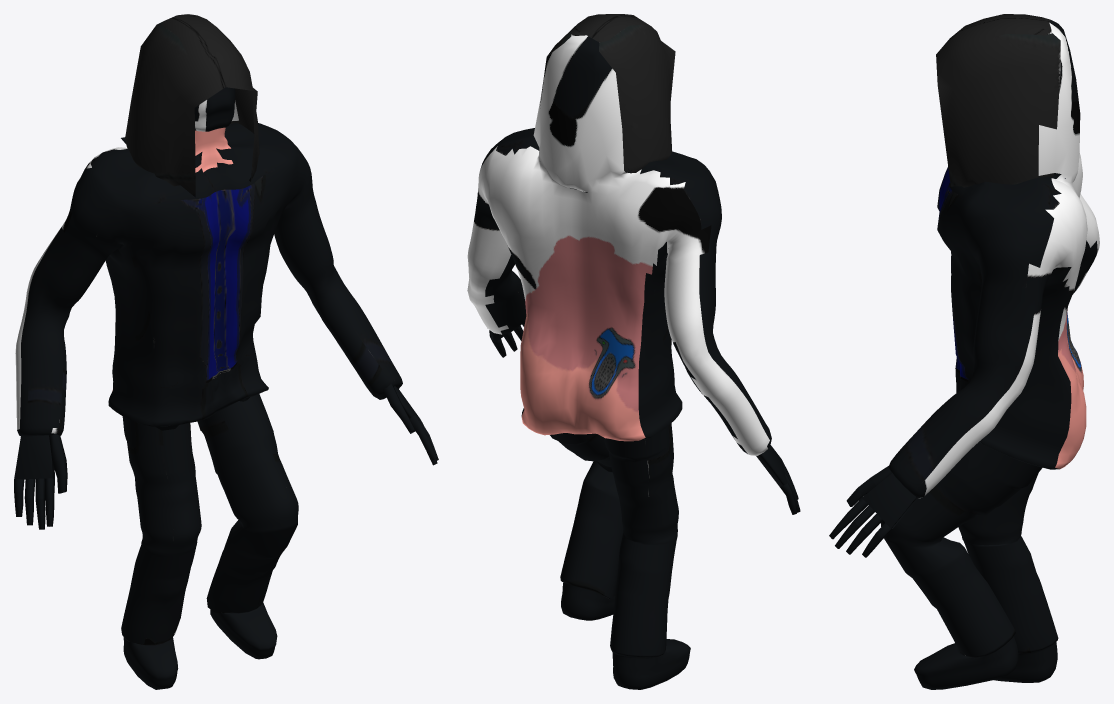
The model's file is keyFrame06.obj.
The picture shows the model from 3 angles, left to right: view 1: azimuth 30°, elevation 25°; view 2: azimuth 150°, elevation 25°; view 3: azimuth 270°, elevation 25°; orthographic projection. The views are drawn at different scales.
Visible parts, largest first — view 1: pasted__polySurface71 group4; view 2: pasted__polySurface71 group4; view 3: pasted__polySurface71 group4.
Boxes of the visible parts, bbox=[...] form: pasted__polySurface71 group4: bbox=[14, 14, 438, 689]; pasted__polySurface71 group4: bbox=[467, 14, 800, 689]; pasted__polySurface71 group4: bbox=[829, 14, 1099, 689].
Size of the model in its own units: 7.47 by 12.84 by 4.63.
Materials: 1 (1 with a texture image).
